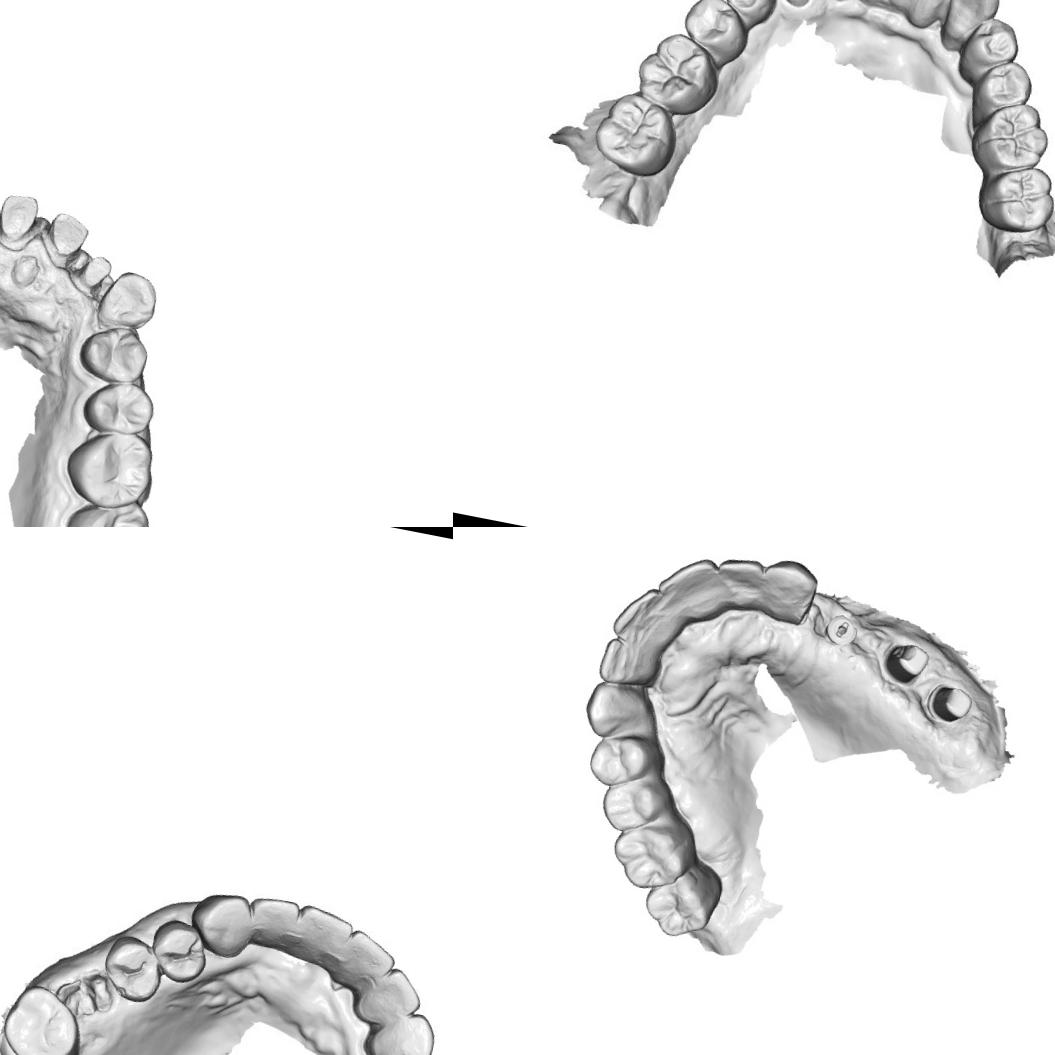abutment: (882, 636, 931, 685), (929, 680, 973, 729)
canine: (578, 675, 662, 745), (753, 551, 821, 629), (188, 884, 256, 961), (92, 264, 161, 338), (361, 1005, 440, 1055), (937, 0, 1007, 49)
crown: (38, 207, 92, 272), (0, 186, 42, 254), (70, 250, 114, 298)
implant_minus: (822, 610, 863, 650)
incisor: (357, 958, 432, 1036), (282, 903, 354, 976), (651, 545, 721, 613), (589, 633, 663, 691), (338, 924, 403, 990), (608, 580, 674, 643), (708, 550, 768, 613), (246, 887, 300, 944), (906, 0, 962, 26)
molar: (59, 422, 158, 515), (630, 27, 726, 122), (592, 86, 682, 179), (968, 94, 1055, 178), (604, 819, 696, 897), (0, 978, 92, 1055), (973, 158, 1055, 239), (638, 866, 717, 944), (56, 487, 155, 527)
premolar: (96, 926, 167, 1006), (673, 0, 756, 67), (74, 319, 153, 389), (78, 374, 159, 442), (582, 729, 660, 795), (595, 773, 671, 840), (145, 914, 212, 988), (972, 52, 1039, 117), (959, 12, 1026, 76), (714, 0, 781, 29)
